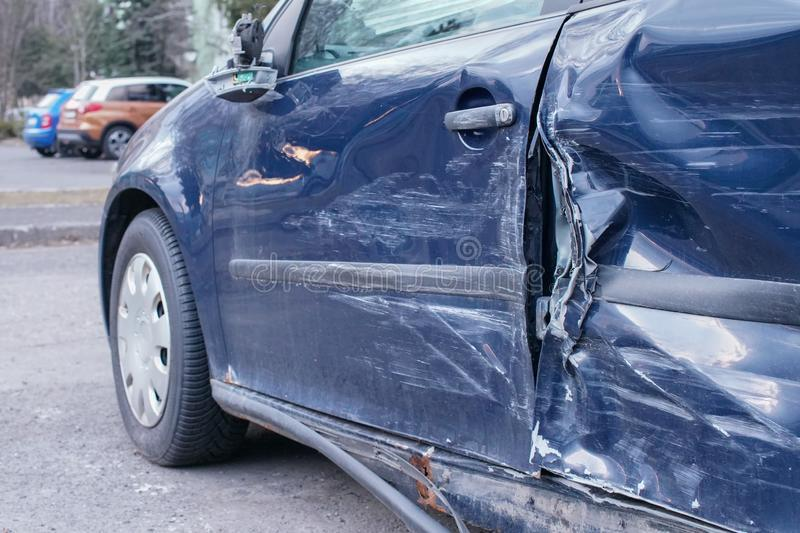RunningBoard-Dent: (416, 466, 742, 532)
